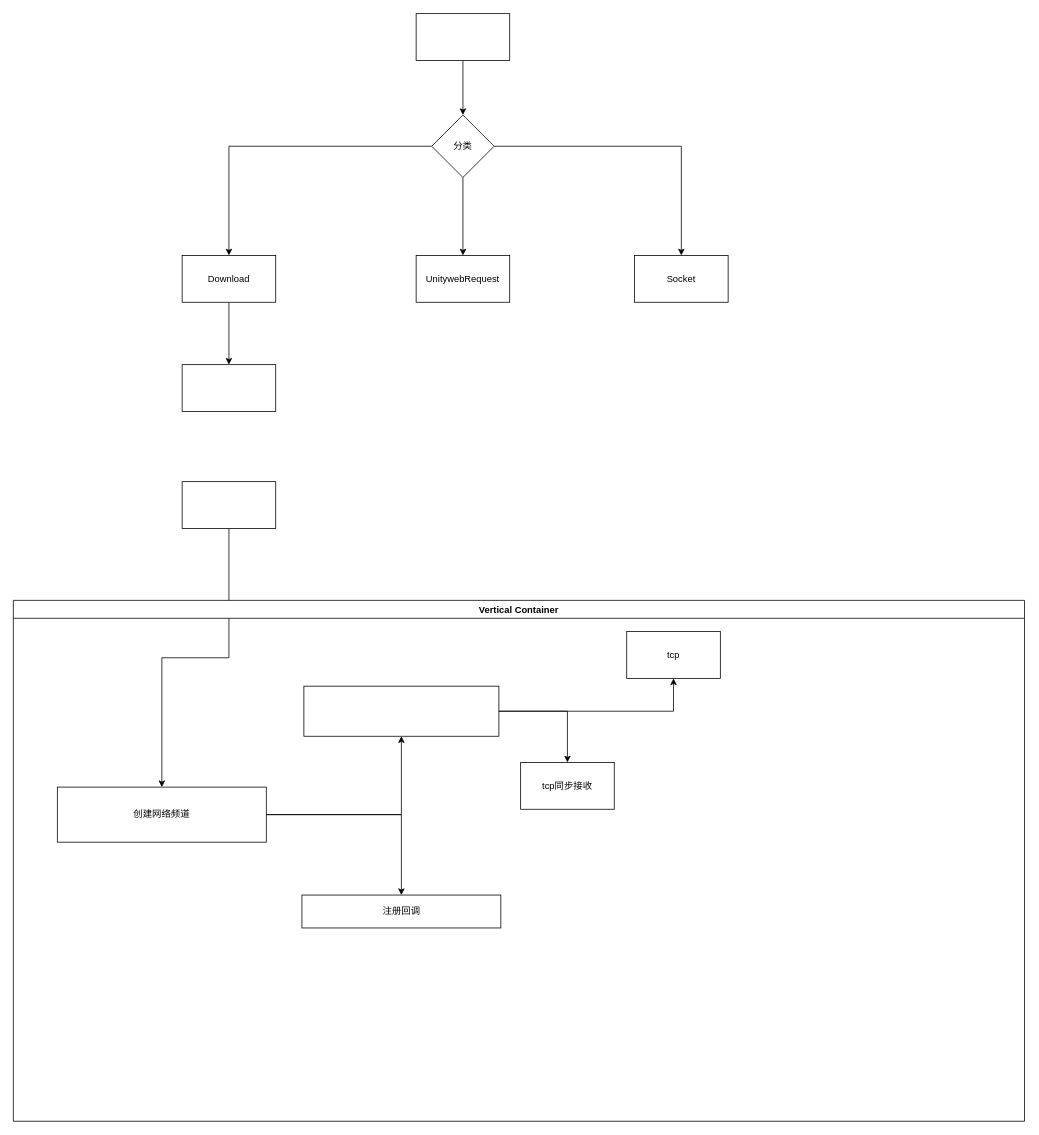
Some shapes in this 1039 by 1135 pixel diagram are drawn without their labels. Here are the shapes that lost their labels. From the top down, the centre of each, then its label:
At point (462, 36): "网络".
At point (228, 387): "从远程服务器上下载资源".
At point (228, 504): "Socket网络连接".
At point (401, 710): "选定网络类型".
